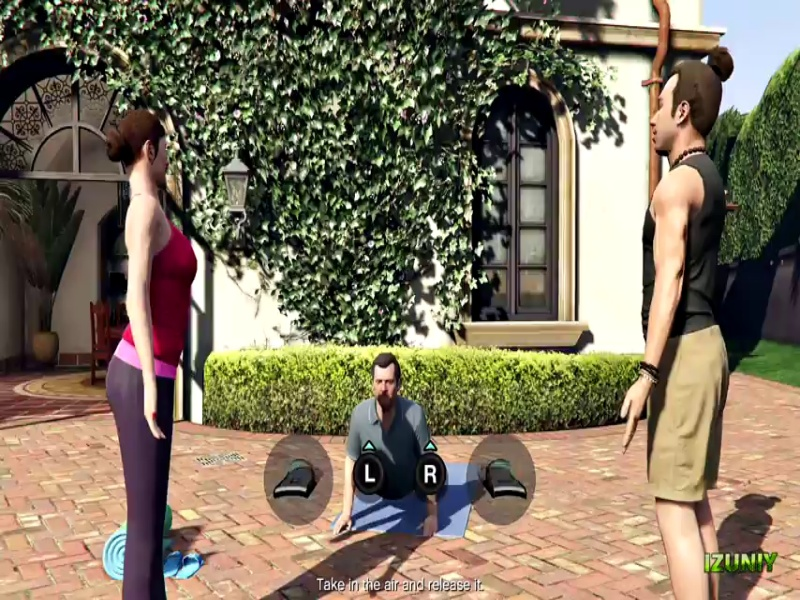licenseplate: (448, 342, 540, 354)
